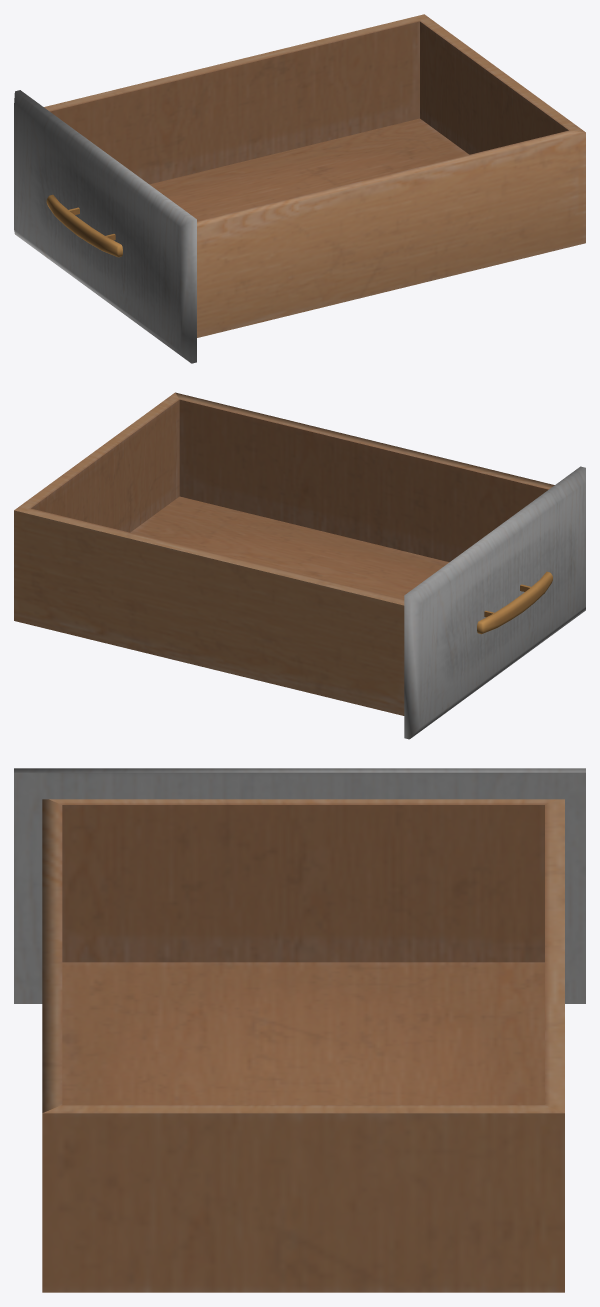
The model's file is SM_KitchenSet_A2_Cabinet_A2.fbx.
The picture shows the model from 3 angles, top to bottom: view 1: azimuth 30°, elevation 25°; view 2: azimuth 150°, elevation 25°; view 3: azimuth 270°, elevation 25°; orthographic projection. The views are drawn at different scales.
Visible parts, largest first — view 1: SM_KitchenSet_A2_Cabinet_A2; view 2: SM_KitchenSet_A2_Cabinet_A2; view 3: SM_KitchenSet_A2_Cabinet_A2.
Boxes of the visible parts, x1=… form: SM_KitchenSet_A2_Cabinet_A2: x1=14, y1=14, x2=585, y2=363; SM_KitchenSet_A2_Cabinet_A2: x1=14, y1=392, x2=585, y2=739; SM_KitchenSet_A2_Cabinet_A2: x1=14, y1=768, x2=585, y2=1292.
Bounding box in the file's own units: 47.66 × 33.85 × 15.12.
Materials: 2 (2 with a texture image).
